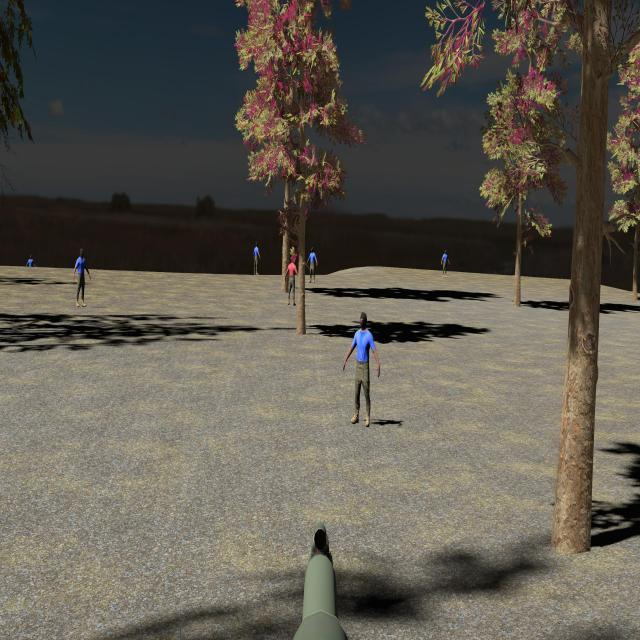Human: (343, 311, 380, 426), (73, 247, 91, 307), (285, 255, 299, 305), (307, 245, 318, 284)
